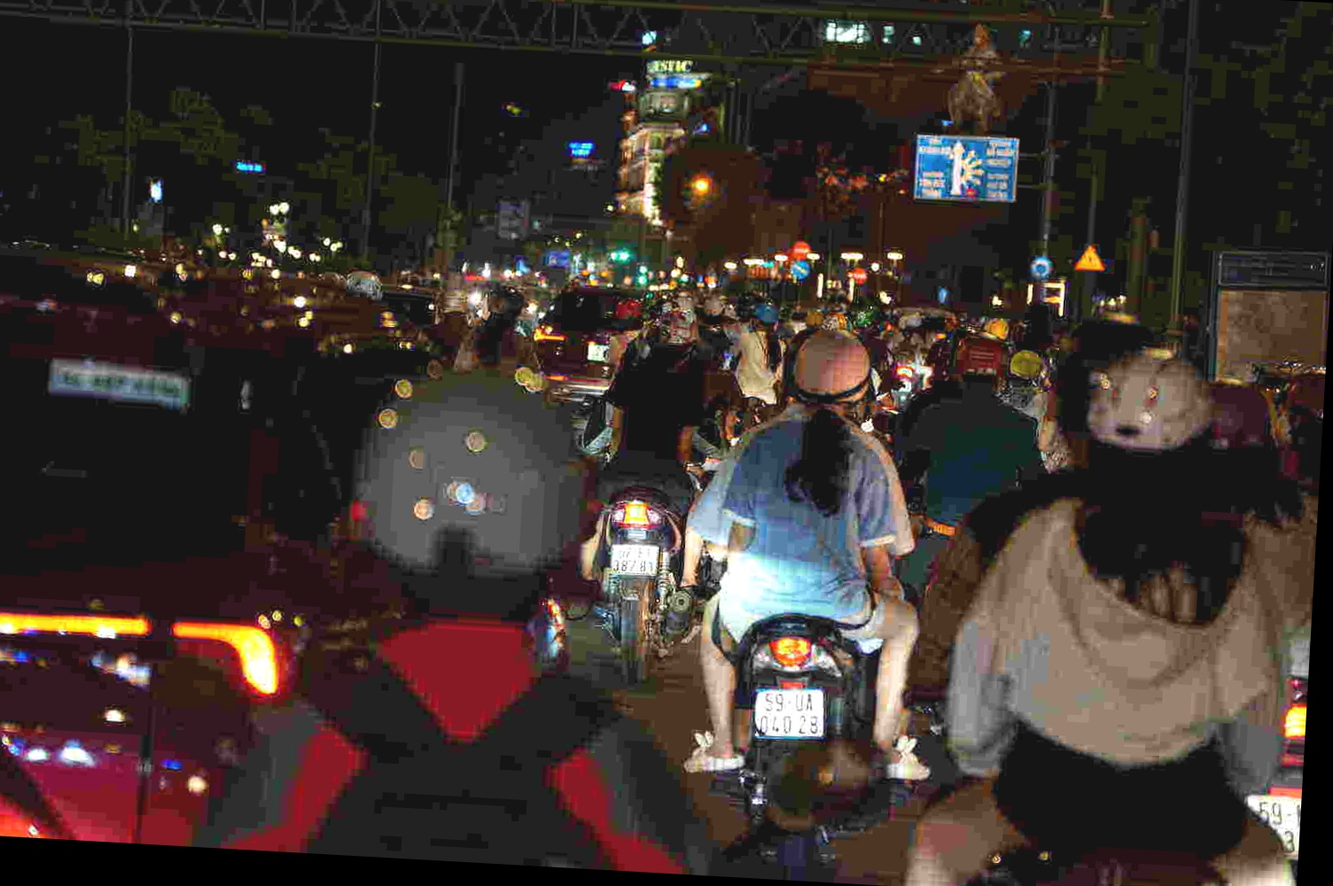Bien-so: (753, 686, 827, 739), (1246, 792, 1301, 856), (610, 541, 658, 586)
